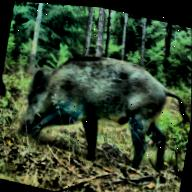boar: (6, 16, 192, 192)
